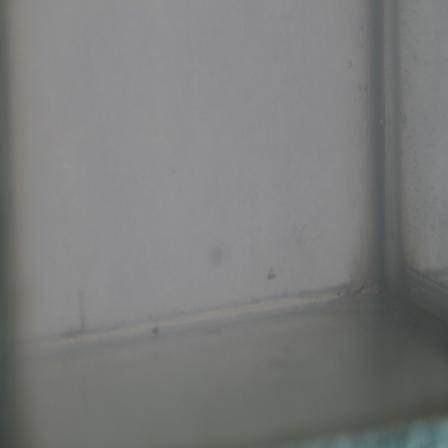Jentik-Nyamuk: (263, 263, 280, 285)
